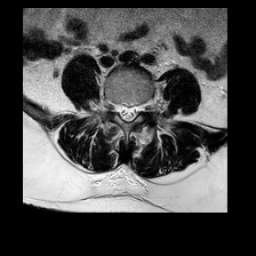CCS_normal: (125, 95, 132, 128)
LFS_normal: (138, 93, 145, 119)
LLS_normal: (132, 96, 138, 123)
RFS_normal: (111, 93, 118, 117)
RLS_normal: (118, 95, 125, 123)
